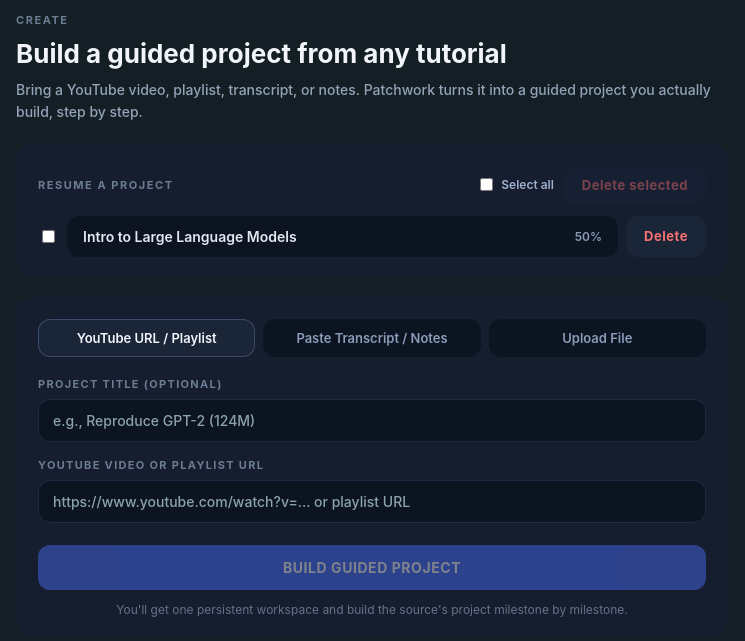
it: CreatePage Component › deletes a saved project from the resume list
The width and height of the screenshot is (745, 641).
Expected: the text "Intro to Large Language Models" is shown, [83,228,297,245]
Click the button with aria-label "Delete Intro to Large Language Models" at (666, 236), box [626,216,706,257]
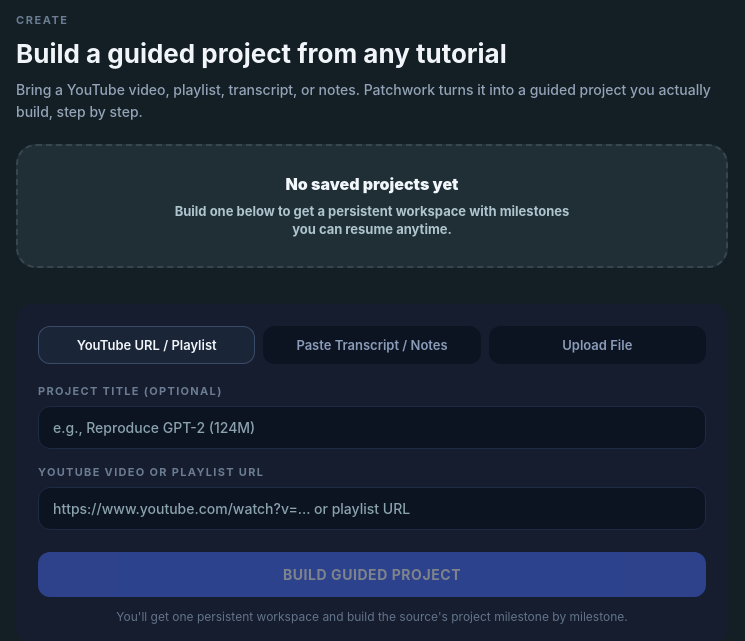
Expected: the button "Intro to Large Language Models" is gone
